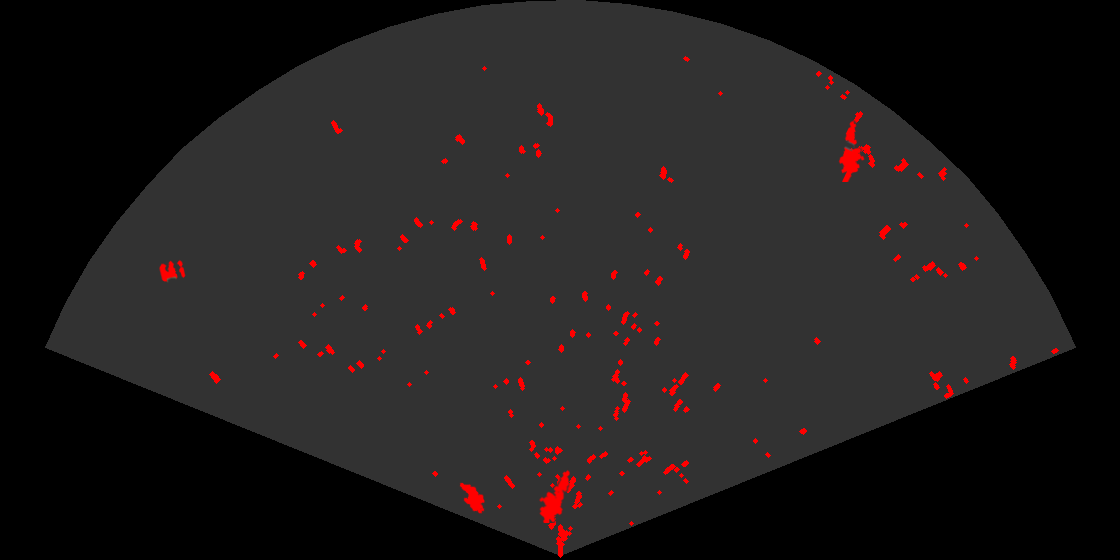AUV: (458, 481, 486, 515)
ball: (158, 258, 187, 284)
frogman: (837, 119, 866, 182), (538, 468, 571, 523)
